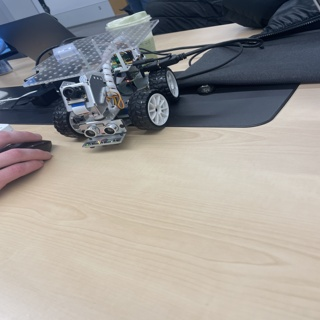vehicle: (22, 34, 178, 149)
